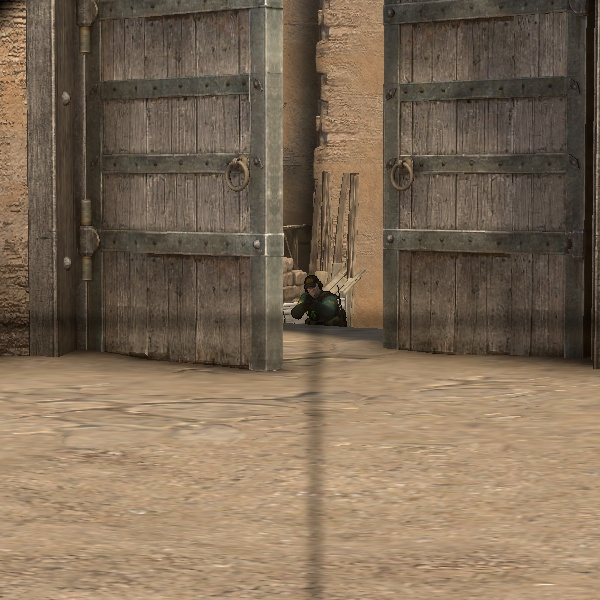ct_body: (293, 271, 347, 329)
ct_head: (303, 273, 325, 301)
